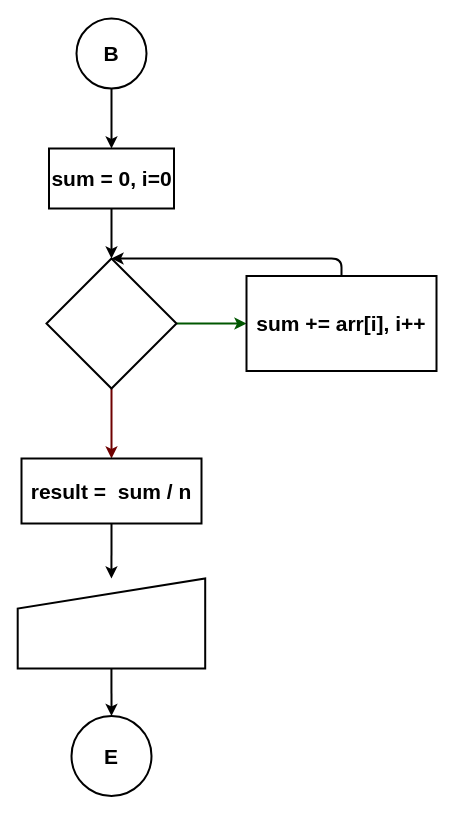
Image size: 455x814. Some labels were removed from this diagram. The shapes that lost their labels are listed below. From the top down, each one's centre as x and y in pixels, then its label:
At (111,323): "i<n".
At (111,623): "hiển thị result".
